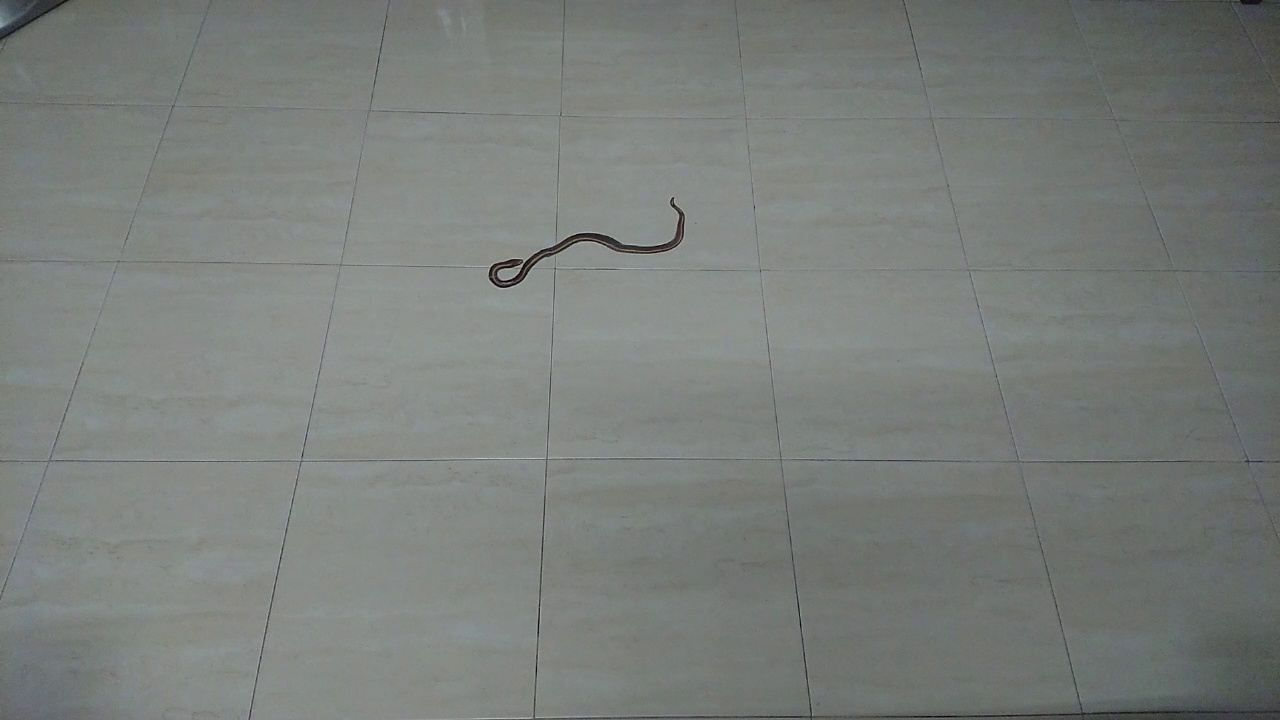snake: (469, 181, 698, 298)
